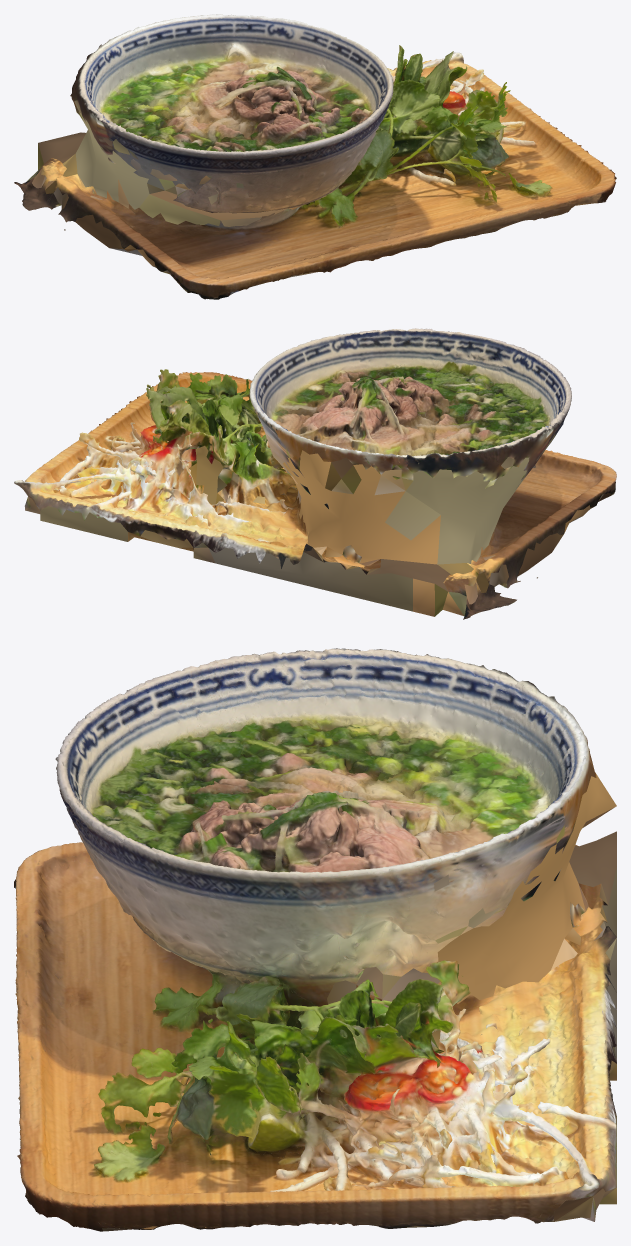
Rendered from scan_2023-05-16t181743.338z.glb.
3 renders of one model, top to bottom at view 1: azimuth 30°, elevation 25°; view 2: azimuth 150°, elevation 25°; view 3: azimuth 270°, elevation 25°, orthographic. The views are drawn at different scales.
Parts seen in each view (by area): view 1: model; view 2: model; view 3: model.
Boxes of the visible parts, x1,y1,x2,y2 form: model: (14, 14, 616, 299); model: (14, 328, 616, 619); model: (14, 648, 616, 1231).
Bounding box in the file's own units: 0.3463 × 0.0952 × 0.2286.
Materials: 1 (1 with a texture image).
